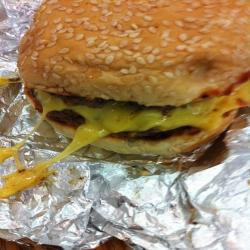burger: (19, 1, 248, 170)
